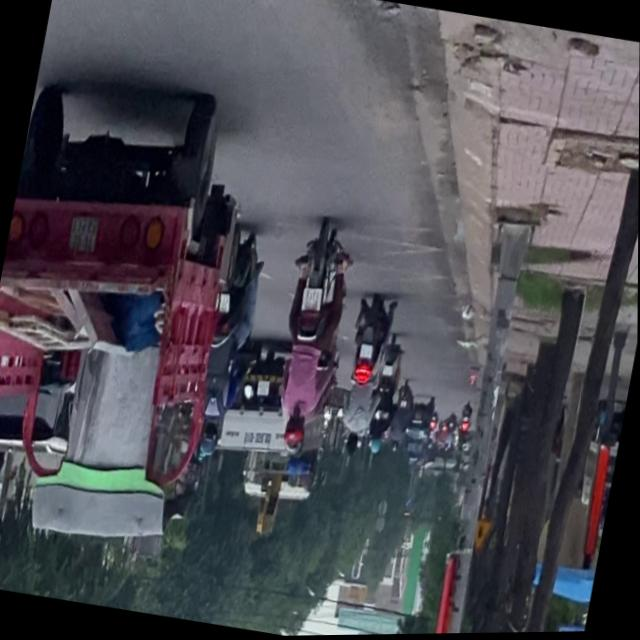helmet: (194, 416, 224, 460), (279, 414, 307, 456)
licenseplate: (259, 217, 362, 461), (183, 222, 272, 463)
nohelmet: (300, 287, 322, 313), (215, 295, 230, 315)
